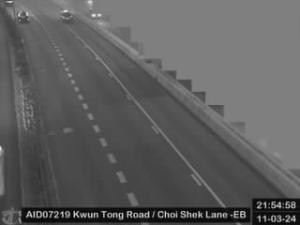vehicle: (60, 8, 76, 22), (16, 9, 30, 23), (88, 9, 102, 18), (4, 1, 14, 6)
